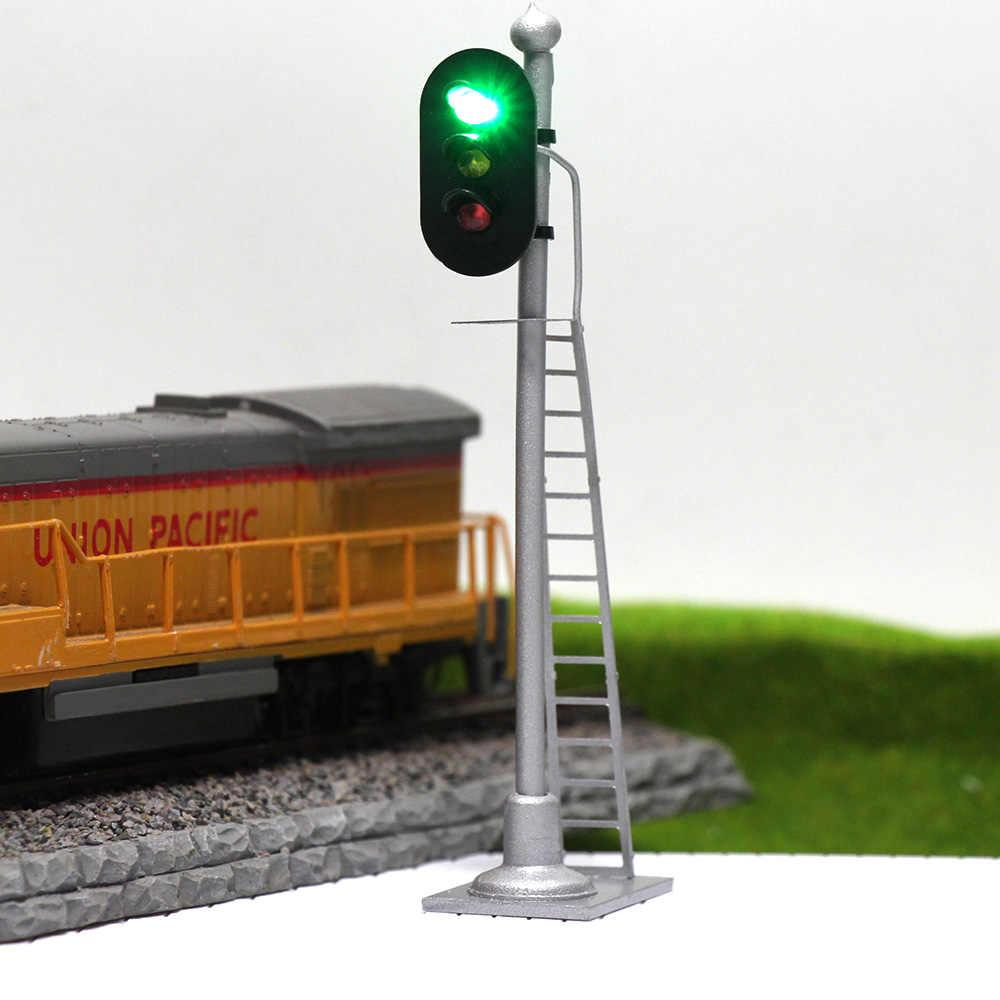Traffic light green: (395, 48, 540, 282)
